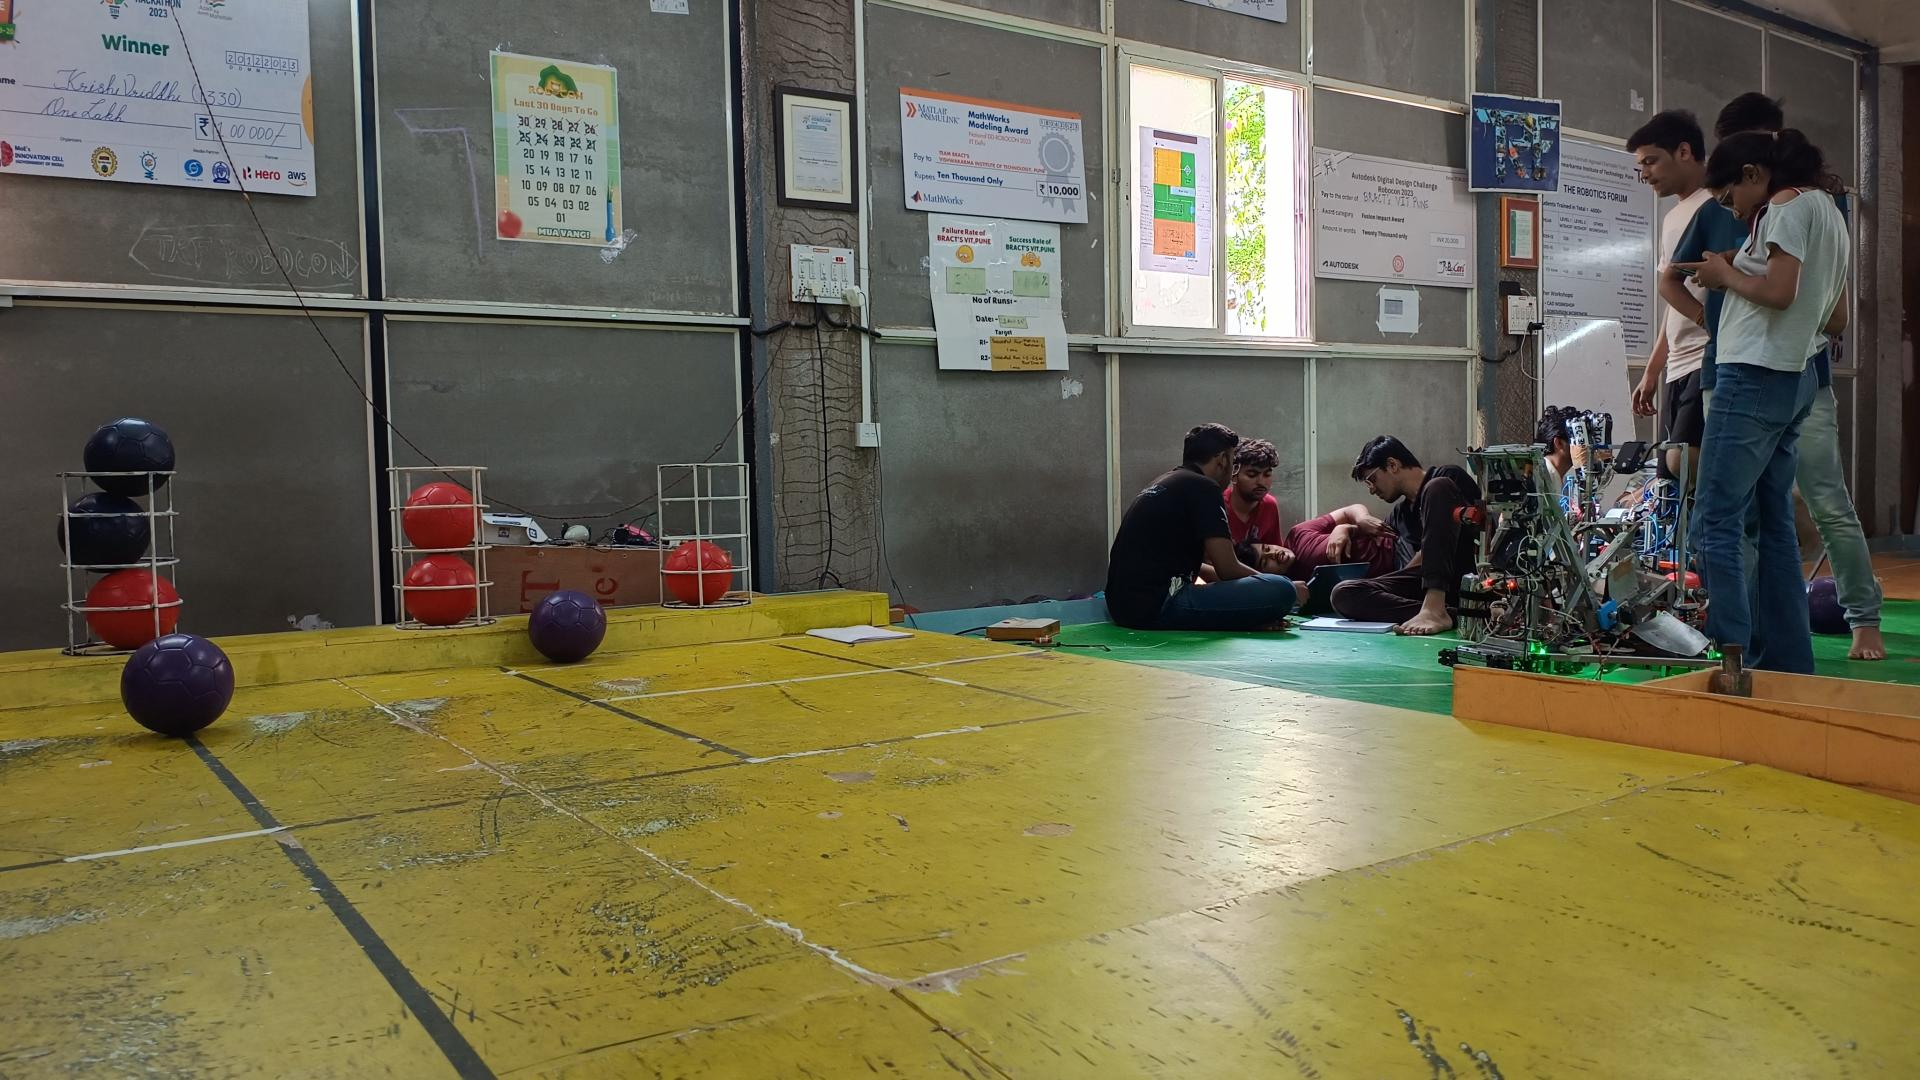dhoka: (84, 418, 174, 497), (58, 491, 152, 566)
laale: (84, 566, 178, 649), (406, 554, 477, 629), (401, 481, 476, 549), (665, 541, 732, 605)
